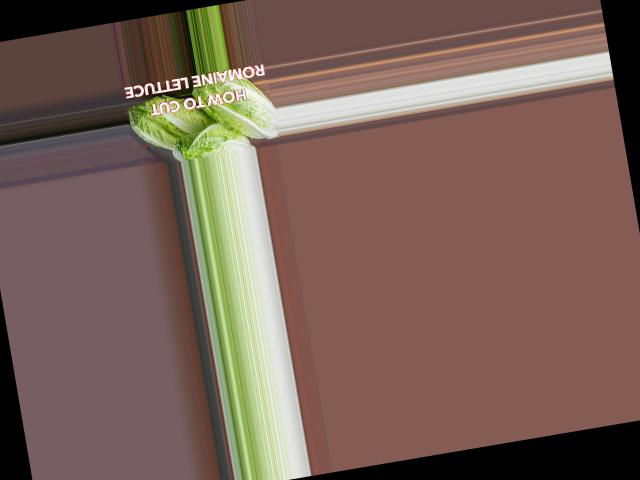lettuce: (121, 80, 224, 161)
